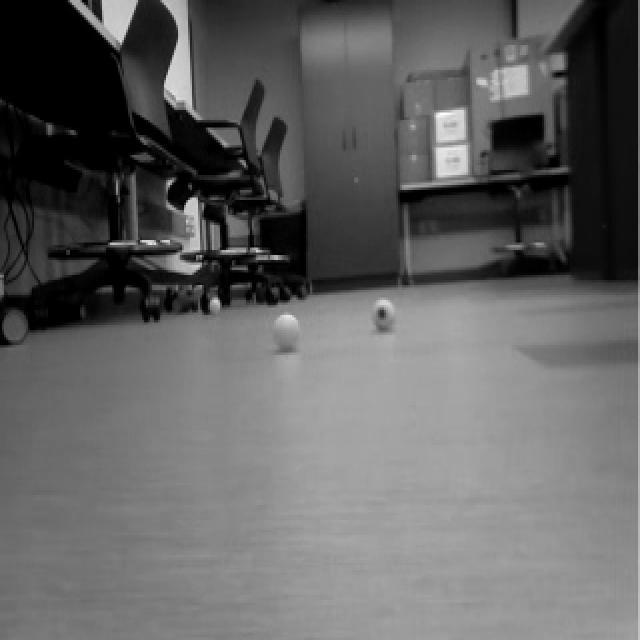ping-pong-ball: (268, 312, 305, 358), (368, 289, 402, 337), (207, 293, 223, 319)
